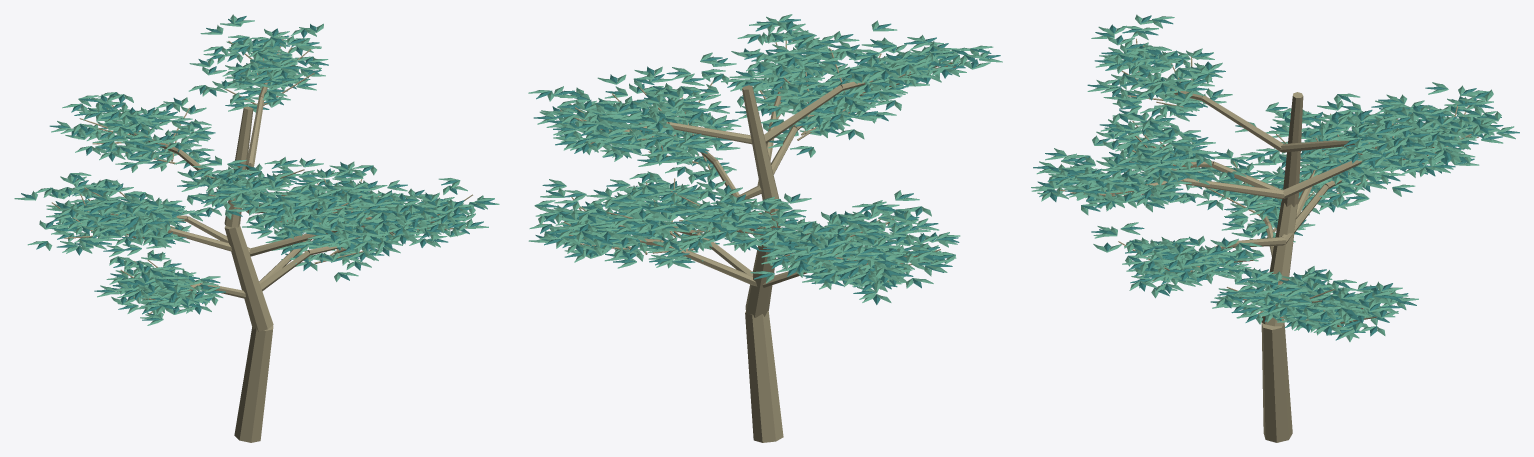
File: reference-public_models_vegetation_chinese-pine.glb
The picture shows the model from 3 angles, left to right: view 1: azimuth 30°, elevation 25°; view 2: azimuth 150°, elevation 25°; view 3: azimuth 270°, elevation 25°; orthographic projection. The views are drawn at different scales.
Parts seen in each view (by area): view 1: Sunwen_chinese-pine; view 2: Sunwen_chinese-pine; view 3: Sunwen_chinese-pine.
Boxes of the visible parts, <box> form: Sunwen_chinese-pine: <box>14,14,499,442</box>; Sunwen_chinese-pine: <box>528,14,1002,442</box>; Sunwen_chinese-pine: <box>1031,14,1519,442</box>.
Bounding box in the file's own units: 5.03 × 4.13 × 5.1.
